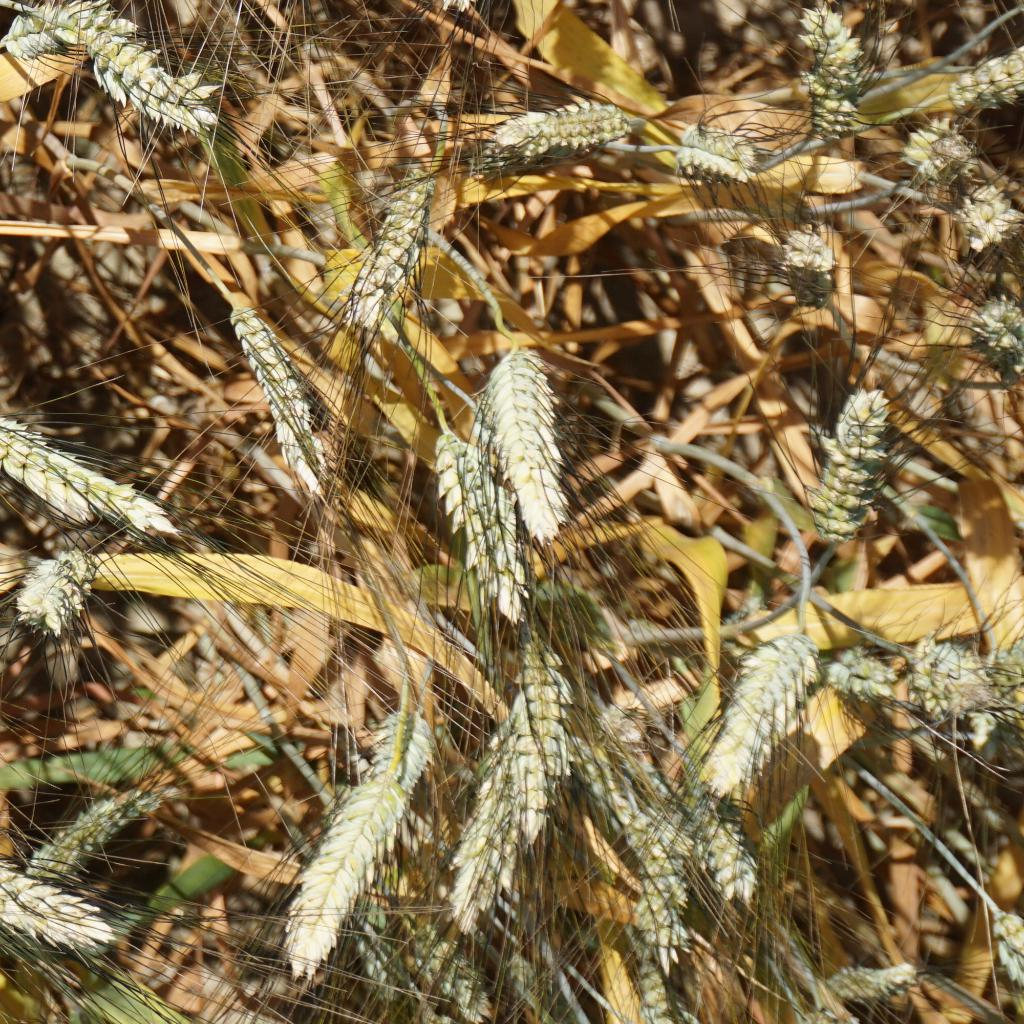0-0: (276, 765, 407, 981), (228, 297, 348, 499), (561, 730, 690, 908), (0, 413, 183, 536), (430, 425, 530, 624), (477, 341, 571, 546), (620, 458, 722, 635), (446, 717, 530, 930), (706, 633, 816, 793), (346, 157, 444, 333), (75, 30, 232, 139), (28, 778, 173, 888), (807, 386, 905, 544), (505, 662, 578, 846), (624, 785, 697, 962), (393, 907, 492, 1024), (0, 861, 114, 961), (476, 96, 633, 167), (797, 6, 875, 140), (13, 538, 106, 646), (910, 637, 1005, 728), (623, 532, 690, 648), (0, 0, 133, 58), (694, 800, 761, 902), (775, 230, 853, 314), (372, 703, 439, 794), (626, 954, 713, 1024), (673, 125, 765, 185), (956, 179, 1024, 259), (900, 116, 975, 187), (815, 640, 893, 705), (825, 956, 928, 1005), (965, 292, 1023, 375), (949, 47, 1024, 110), (592, 695, 658, 757), (987, 901, 1024, 994), (784, 992, 865, 1024)
